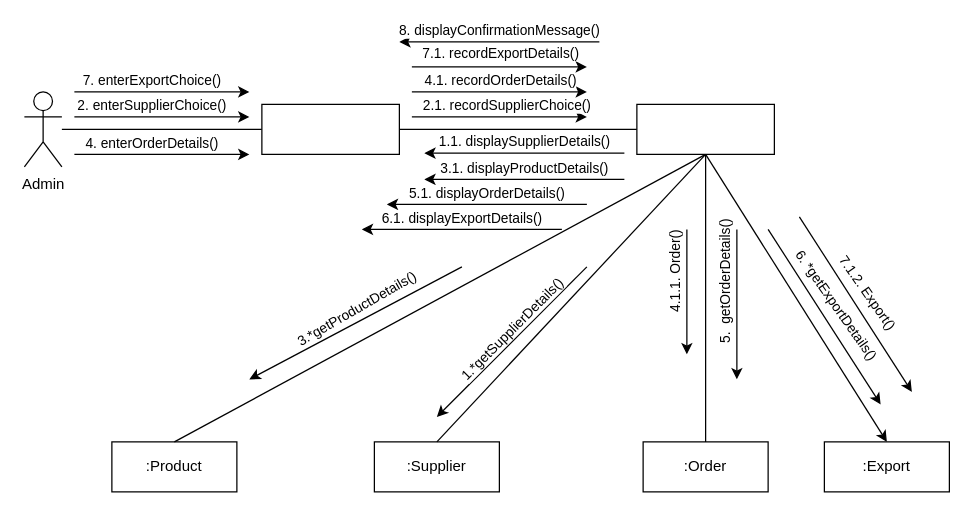
Image size: 971x514. Some labels were removed from this diagram. Each missing label, with the box of its shape:
:Create Purchase Order: (636, 103, 774, 154)
:Create Purchase OrderUI: (261, 103, 399, 154)
